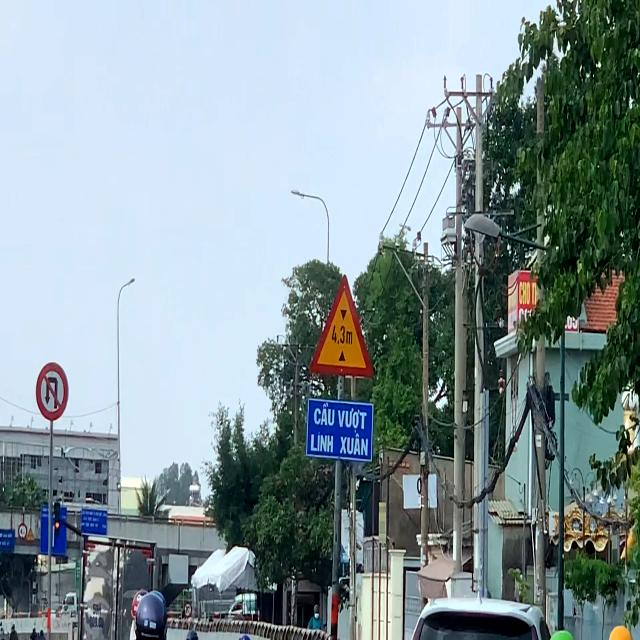P.124a: (34, 358, 73, 426)
S.509a: (307, 270, 378, 380)
